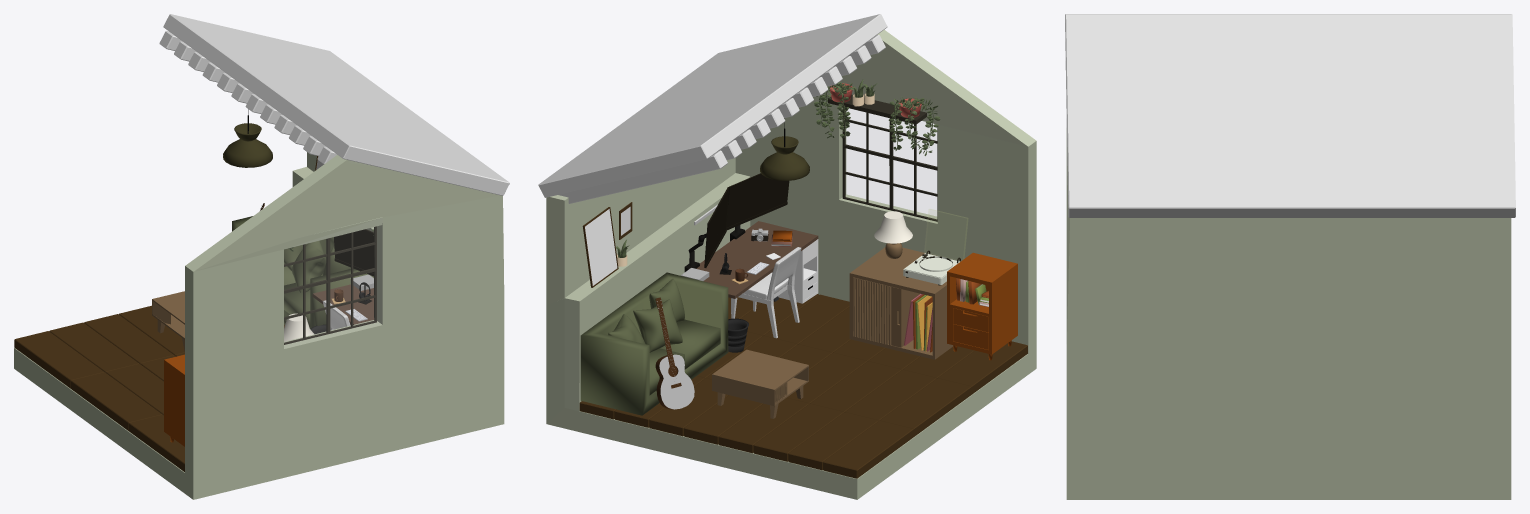
The model's file is MyRoom.glb.
3 renders of one model, left to right at view 1: azimuth 30°, elevation 25°; view 2: azimuth 150°, elevation 25°; view 3: azimuth 270°, elevation 25°, orthographic. The views are drawn at different scales.
Parts seen in each view (by area): view 1: room, Cube.064, sofa, book_cabinet, Cylinder.036, screen, book_type_2, working_table, cushion.001; view 2: room, Cube.064, sofa, Cube.045, book_cabinet, book_type_2, working_table, screen.001, leme_chair, guitar, Plane.020, Cylinder.036 (+9 smaller); view 3: room, Cube.064.
Part boxes in pixels (x1,y1,x2,y2): room: [14, 152, 504, 499]; Cube.064: [159, 14, 509, 195]; sofa: [232, 216, 373, 328]; book_cabinet: [164, 354, 184, 446]; Cylinder.036: [223, 115, 272, 167]; screen: [334, 229, 374, 276]; book_type_2: [152, 291, 184, 351]; working_table: [312, 284, 374, 324]; cushion.001: [292, 240, 326, 292]; room: [546, 29, 1036, 499]; Cube.064: [538, 14, 887, 203]; sofa: [580, 272, 728, 415]; Cube.045: [849, 247, 953, 359]; book_cabinet: [947, 252, 1017, 360]; book_type_2: [712, 349, 808, 418]; working_table: [696, 221, 818, 301]; screen.001: [726, 173, 789, 230]; leme_chair: [731, 247, 801, 338]; guitar: [655, 297, 694, 409]; Plane.020: [582, 207, 618, 287]; Cylinder.036: [760, 128, 809, 180]; room: [1066, 128, 1511, 499]; Cube.064: [1065, 14, 1515, 217].
Size of the model in its own units: 14.1 by 13.43 by 13.99.
